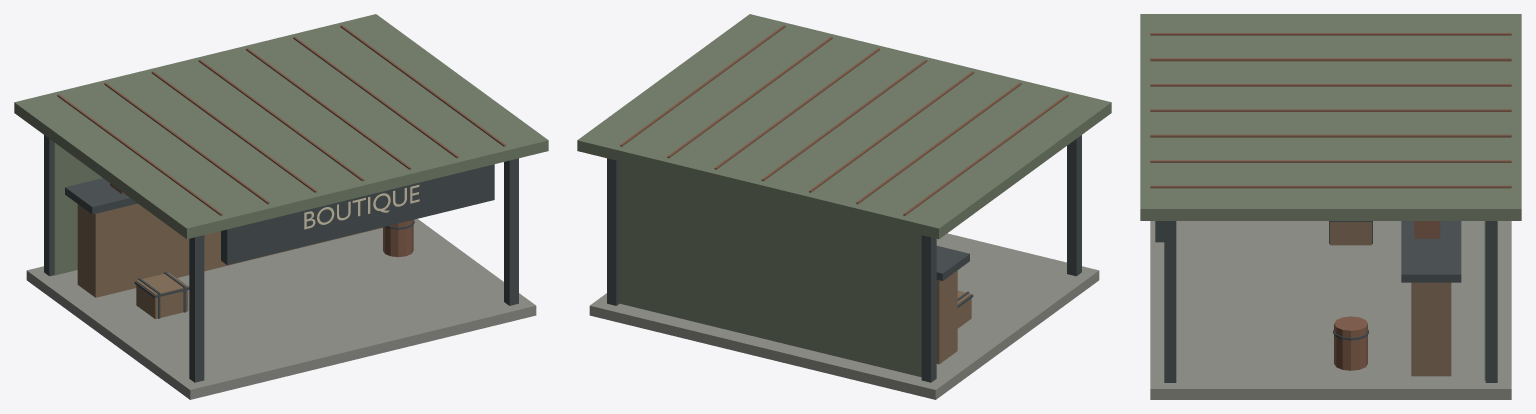
The model's file is Refuge_Boutique_04_BOUTIQUE.fbx.
The picture shows the model from 3 angles, left to right: view 1: azimuth 30°, elevation 25°; view 2: azimuth 150°, elevation 25°; view 3: azimuth 270°, elevation 25°; orthographic projection. The views are drawn at different scales.
Parts seen in each view (by area): view 1: Refuge_Boutique_04_BOUTIQUE_canvas, Refuge_Boutique_04_BOUTIQUE_concrete, Refuge_Boutique_04_BOUTIQUE_iron, Refuge_Boutique_04_BOUTIQUE_wood, Refuge_Boutique_04_BOUTIQUE_rust, Refuge_Boutique_04_BOUTIQUE_label; view 2: Refuge_Boutique_04_BOUTIQUE_canvas, Refuge_Boutique_04_BOUTIQUE_concrete, Refuge_Boutique_04_BOUTIQUE_iron, Refuge_Boutique_04_BOUTIQUE_rust, Refuge_Boutique_04_BOUTIQUE_wood; view 3: Refuge_Boutique_04_BOUTIQUE_canvas, Refuge_Boutique_04_BOUTIQUE_concrete, Refuge_Boutique_04_BOUTIQUE_rust, Refuge_Boutique_04_BOUTIQUE_iron, Refuge_Boutique_04_BOUTIQUE_wood.
Part boxes in pixels (x1,y1,x2,y2): Refuge_Boutique_04_BOUTIQUE_canvas: (14, 14, 548, 275); Refuge_Boutique_04_BOUTIQUE_concrete: (26, 219, 536, 399); Refuge_Boutique_04_BOUTIQUE_iron: (44, 135, 518, 382); Refuge_Boutique_04_BOUTIQUE_wood: (77, 203, 382, 319); Refuge_Boutique_04_BOUTIQUE_rust: (57, 25, 505, 257); Refuge_Boutique_04_BOUTIQUE_label: (304, 185, 419, 229); Refuge_Boutique_04_BOUTIQUE_canvas: (577, 14, 1111, 377); Refuge_Boutique_04_BOUTIQUE_concrete: (589, 233, 1099, 399); Refuge_Boutique_04_BOUTIQUE_iron: (607, 135, 1081, 382); Refuge_Boutique_04_BOUTIQUE_rust: (620, 25, 1068, 215); Refuge_Boutique_04_BOUTIQUE_wood: (936, 270, 971, 364); Refuge_Boutique_04_BOUTIQUE_canvas: (1140, 14, 1521, 380); Refuge_Boutique_04_BOUTIQUE_concrete: (1150, 221, 1511, 399); Refuge_Boutique_04_BOUTIQUE_rust: (1150, 33, 1511, 370); Refuge_Boutique_04_BOUTIQUE_iron: (1155, 221, 1497, 382); Refuge_Boutique_04_BOUTIQUE_wood: (1330, 222, 1451, 376).
Size of the model in its own units: 23 by 10.88 by 19.
